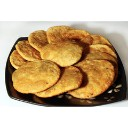poori: (75, 59, 114, 98), (36, 65, 82, 98), (14, 61, 59, 92), (40, 43, 82, 68), (16, 40, 44, 63), (83, 41, 116, 60), (66, 26, 92, 48), (46, 24, 71, 44)
